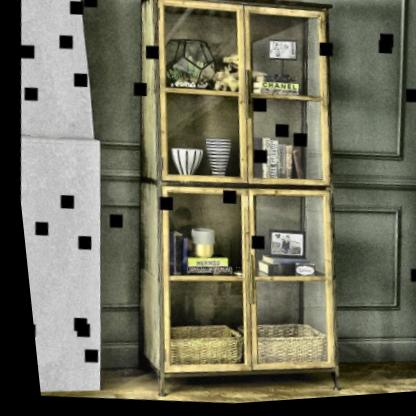Cupboard: (102, 0, 371, 392)
